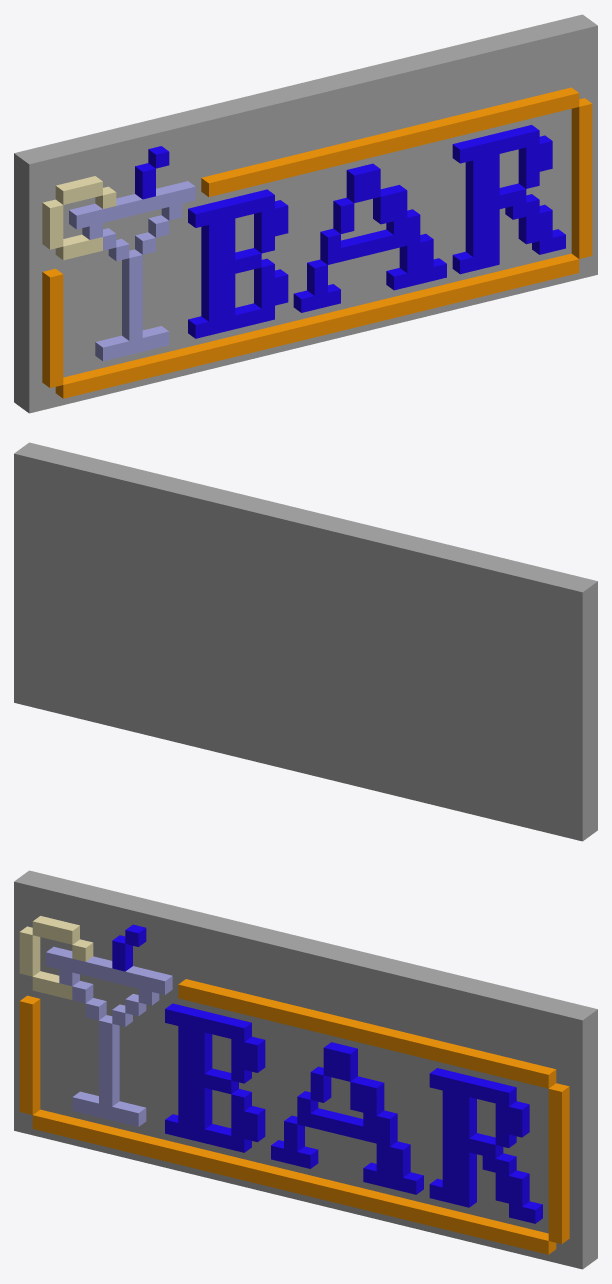
File: bar signboard 2.obj
The picture shows the model from 3 angles, top to bottom: view 1: azimuth 30°, elevation 25°; view 2: azimuth 150°, elevation 25°; view 3: azimuth 330°, elevation 25°; orthographic projection.
Bounding box in the file's own units: 4.3 × 1.8 × 0.3.
1 material, 1 textured.
